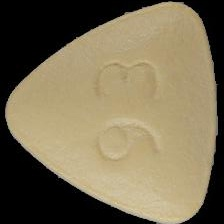55289-963: (0, 0, 224, 224)
